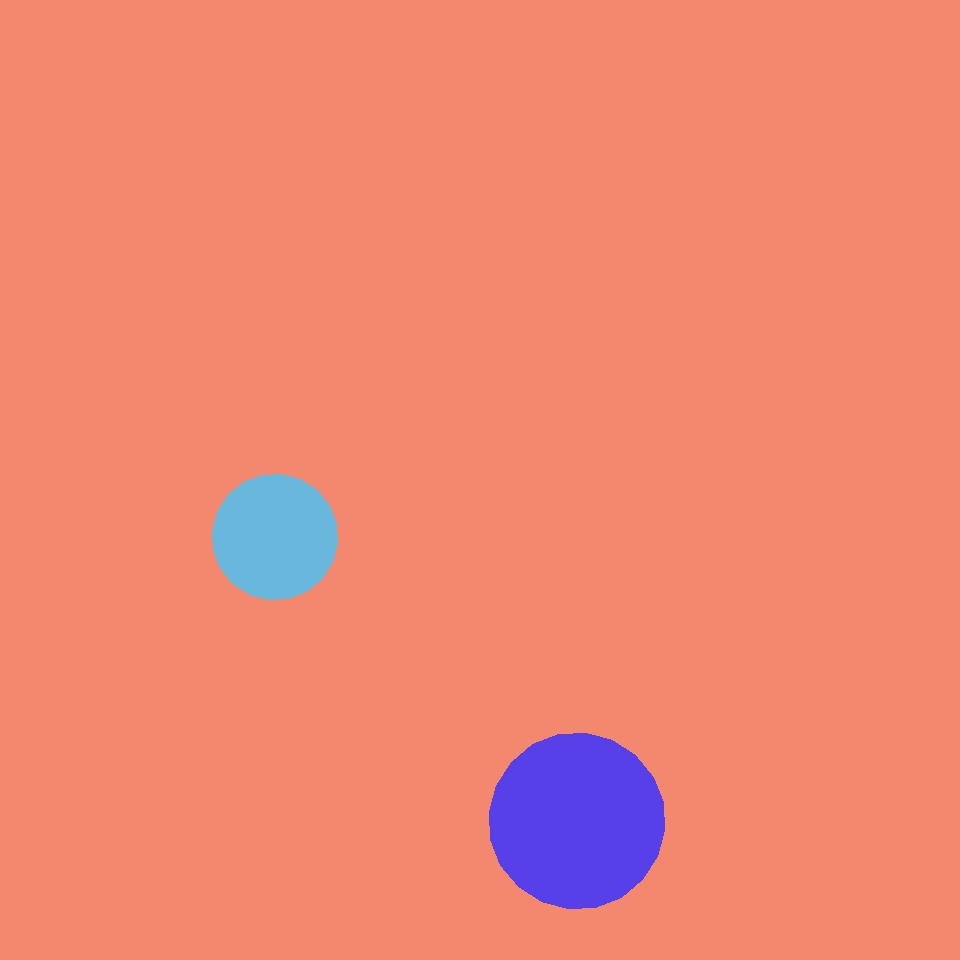square: (172, 300, 535, 663), (231, 481, 441, 690), (97, 55, 191, 149)
triangle: (734, 285, 948, 498), (490, 734, 665, 908), (231, 214, 372, 354), (212, 474, 338, 599)
